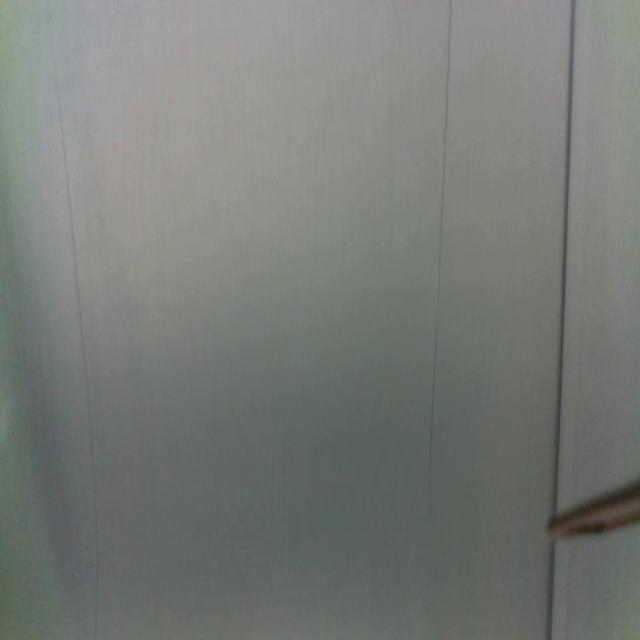crease: (46, 0, 101, 639), (425, 0, 454, 531), (552, 0, 578, 510), (545, 542, 557, 640)
